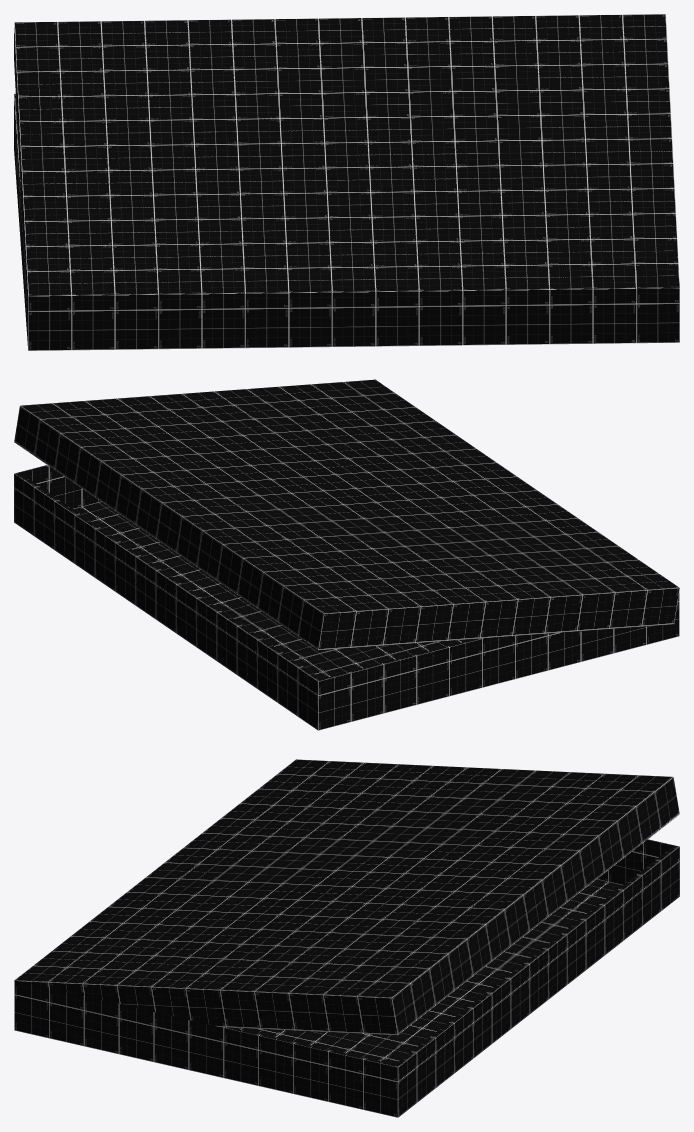
Rendered from DonutBox.fbx.
3 renders of one model, top to bottom at view 1: azimuth 30°, elevation 25°; view 2: azimuth 150°, elevation 25°; view 3: azimuth 270°, elevation 25°, orthographic. The views are drawn at different scales.
Parts seen in each view (by area): view 1: DonutBoxTop__1_, DonutBoxBottom__1_; view 2: DonutBoxTop__1_, DonutBoxBottom__1_; view 3: DonutBoxTop__1_, DonutBoxBottom__1_.
Boxes of the visible parts, x1=… form: DonutBoxTop__1_: x1=14, y1=14, x2=679, y2=329; DonutBoxBottom__1_: x1=14, y1=93, x2=679, y2=350; DonutBoxTop__1_: x1=14, y1=379, x2=679, y2=650; DonutBoxBottom__1_: x1=14, y1=379, x2=679, y2=730; DonutBoxTop__1_: x1=14, y1=759, x2=679, y2=1035; DonutBoxBottom__1_: x1=14, y1=759, x2=679, y2=1117.
Size of the model in its own units: 1843 by 330 by 1681.
